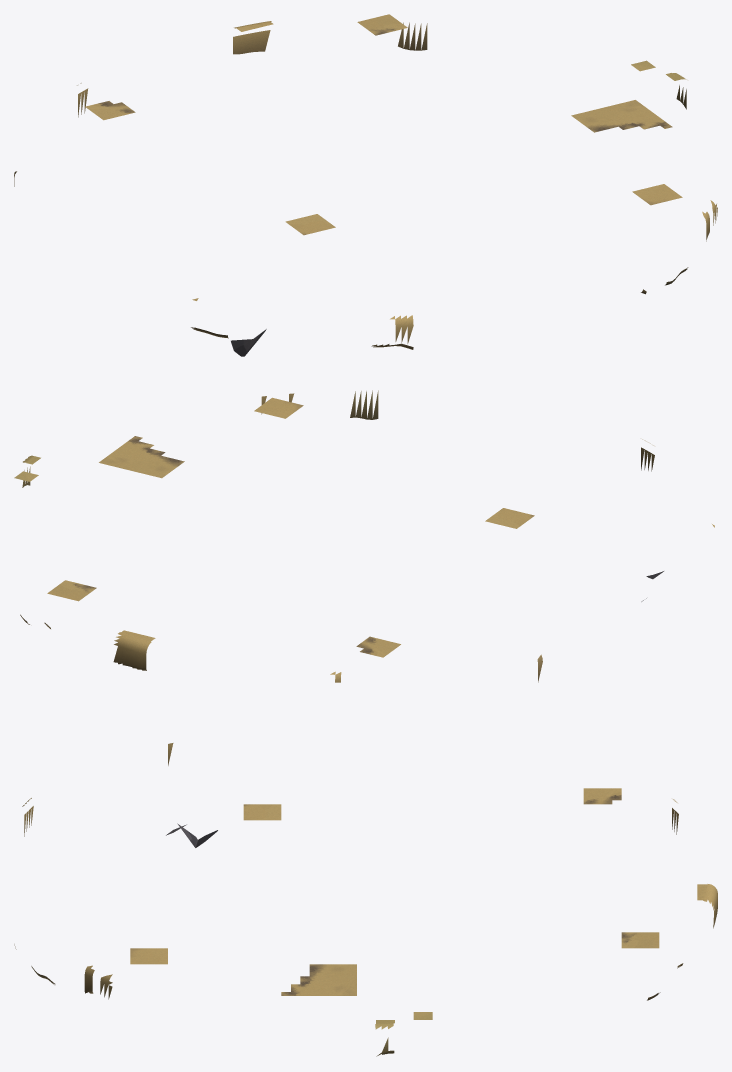
The picture shows the model from 3 angles, top to bottom: view 1: azimuth 30°, elevation 25°; view 2: azimuth 150°, elevation 25°; view 3: azimuth 270°, elevation 25°; orthographic projection. The views are drawn at different scales.
Visible parts, largest first — view 1: Grass_3_-1_0, Grass_0_4_0_110, Grass_-2_-2_0_010, Grass_2_-3_0_100, Grass_2_3_0_010, Grass_-3_3_0_100; view 2: Grass_3_-1_0, Grass_0_4_0_110, Grass_2_-3_0_100, Grass_2_3_0_010, Grass_-2_-2_0_010, Grass_-3_3_0_100, Grass_2_-5_0_011; view 3: Grass_3_-1_0, Grass_-2_-2_0_010, Grass_2_3_0_010, Grass_2_-3_0_100, Grass_-3_3_0_100.
Part boxes in pixels (x1,y1,x2,y2): Grass_3_-1_0: (571, 100, 672, 132); Grass_0_4_0_110: (233, 21, 273, 54); Grass_-2_-2_0_010: (285, 214, 335, 235); Grass_2_-3_0_100: (632, 184, 682, 205); Grass_2_3_0_010: (357, 14, 407, 35); Grass_-3_3_0_100: (85, 101, 135, 120); Grass_3_-1_0: (99, 436, 184, 478); Grass_0_4_0_110: (113, 630, 155, 670); Grass_2_-3_0_100: (254, 397, 303, 418); Grass_2_3_0_010: (47, 580, 96, 601); Grass_-2_-2_0_010: (485, 508, 534, 528); Grass_-3_3_0_100: (356, 636, 400, 657); Grass_2_-5_0_011: (350, 390, 378, 419); Grass_3_-1_0: (281, 964, 356, 995); Grass_-2_-2_0_010: (243, 804, 281, 820); Grass_2_3_0_010: (621, 932, 659, 948); Grass_2_-3_0_100: (130, 948, 167, 964); Grass_-3_3_0_100: (583, 788, 621, 804).
Bounding box in the file's own units: 596 × 79.36 × 596.
Materials: 21 (21 with a texture image).
